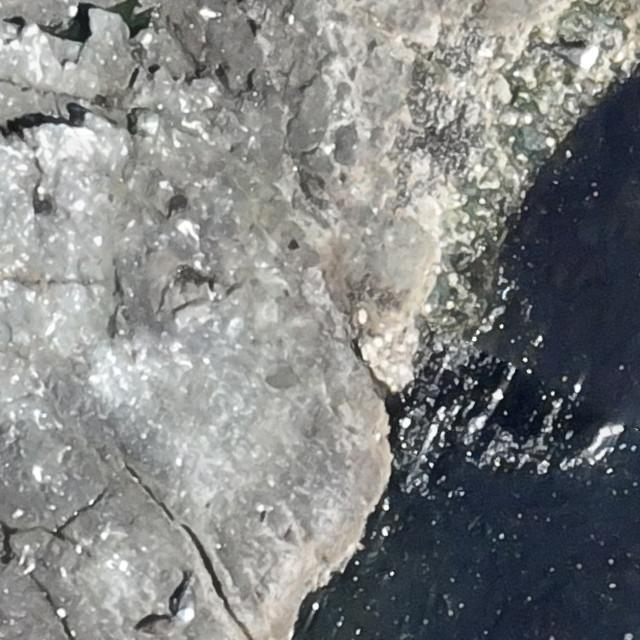umineko: (177, 579, 197, 625), (561, 48, 597, 67)
